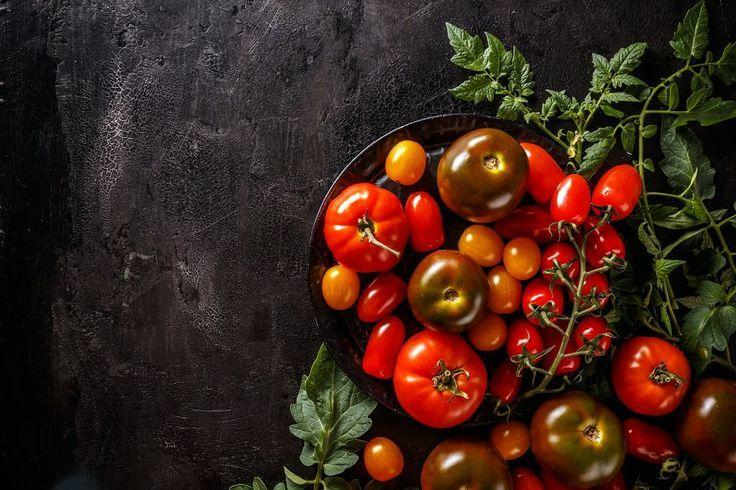healthy-tomato: (395, 330, 491, 431), (532, 392, 628, 490), (438, 130, 532, 228), (318, 183, 414, 276), (612, 336, 698, 421), (408, 252, 491, 339), (514, 130, 592, 222), (348, 415, 443, 490), (421, 427, 528, 490), (679, 361, 736, 477), (457, 225, 521, 318), (594, 163, 649, 260), (361, 318, 426, 383), (405, 192, 452, 275), (521, 271, 575, 338), (375, 139, 432, 202), (314, 263, 370, 324), (480, 361, 532, 426), (507, 310, 563, 370), (551, 175, 597, 239), (625, 418, 683, 466), (559, 318, 616, 365), (356, 274, 407, 326), (544, 245, 582, 296), (577, 264, 614, 315)
